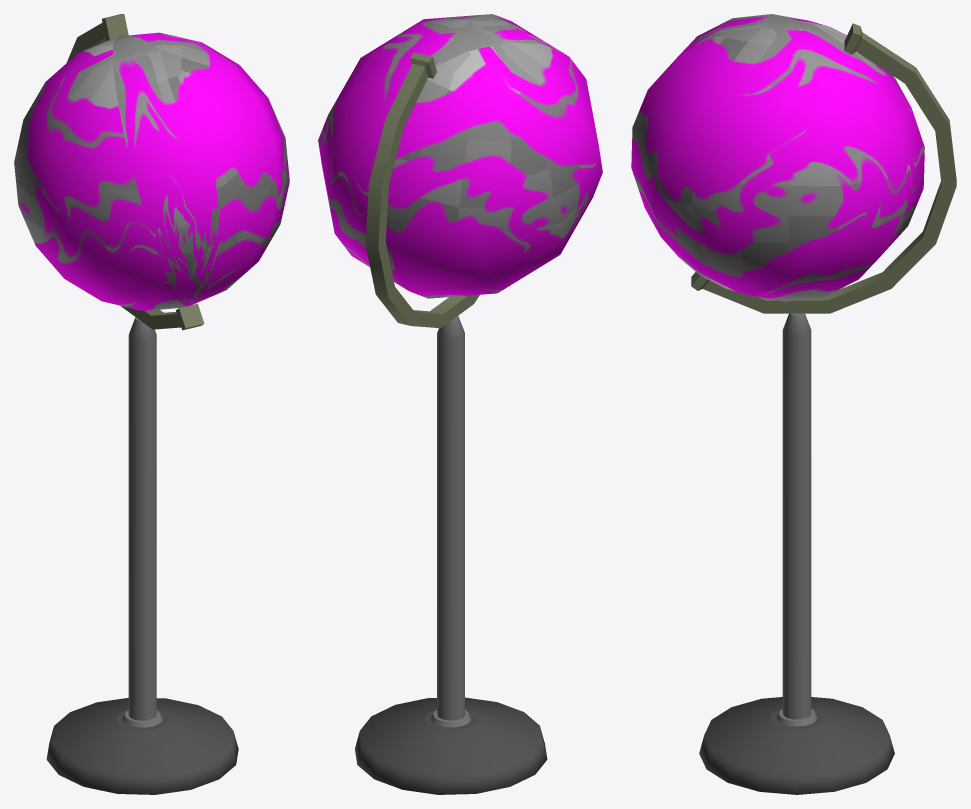
File: Globe.fbx
3 renders of one model, left to right at view 1: azimuth 30°, elevation 25°; view 2: azimuth 150°, elevation 25°; view 3: azimuth 270°, elevation 25°, orthographic.
Parts seen in each view (by area): view 1: Globe, GlobeBase, GlobePost, GlobeBracket; view 2: Globe, GlobeBase, GlobePost, GlobeBracket; view 3: Globe, GlobeBase, GlobePost, GlobeBracket.
Part boxes in pixels (x1,y1,x2,y2): Globe: [14, 32, 289, 310]; GlobeBase: [46, 698, 238, 794]; GlobePost: [122, 317, 162, 727]; GlobeBracket: [66, 14, 204, 330]; Globe: [318, 14, 602, 298]; GlobeBase: [355, 697, 547, 794]; GlobePost: [431, 316, 470, 727]; GlobeBracket: [365, 52, 479, 328]; Globe: [631, 14, 924, 301]; GlobeBase: [699, 697, 894, 794]; GlobePost: [777, 313, 817, 726]; GlobeBracket: [691, 23, 956, 313].
Bounding box in the file's own units: 4.22 × 12.55 × 5.07.
